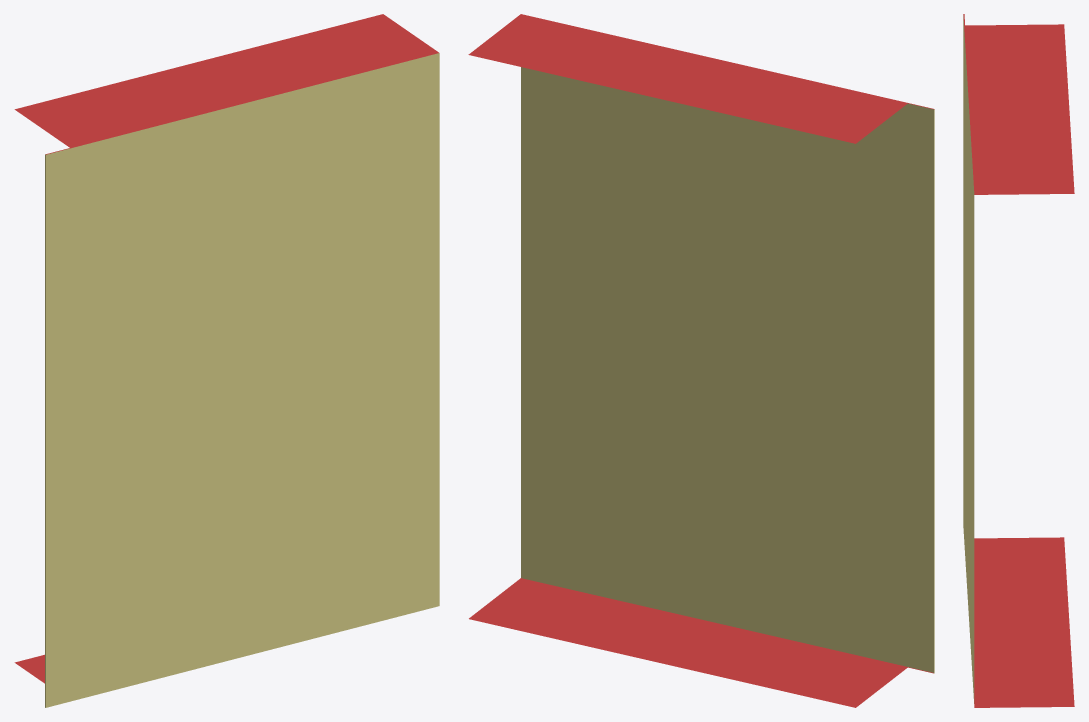
3 views of the same model, side by side, from view 1: azimuth 30°, elevation 25°; view 2: azimuth 150°, elevation 25°; view 3: azimuth 270°, elevation 25° (orthographic). The views are drawn at different scales.
Bounding box in the file's own units: 6.11 × 1.59 × 8.08.
